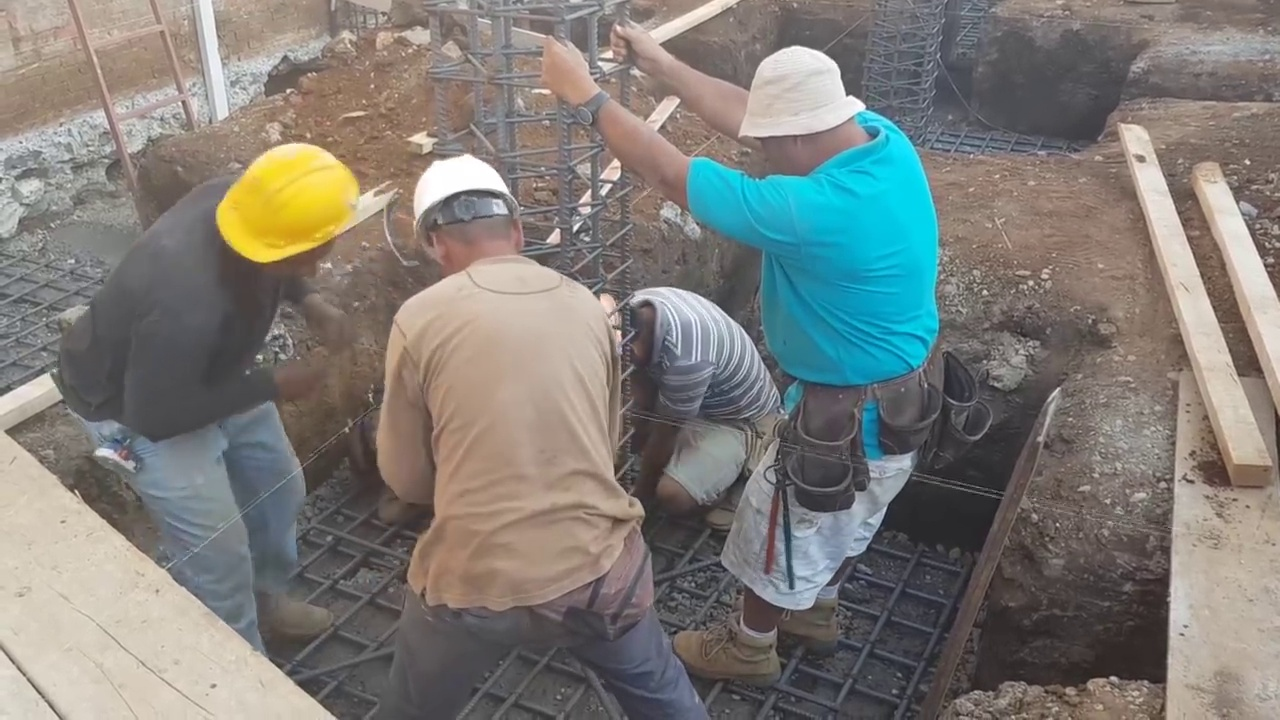helmet: (221, 134, 356, 278), (411, 148, 517, 243)
helmet-off: (733, 45, 872, 177)
helmet-on: (207, 132, 357, 308), (400, 137, 535, 287)
person: (575, 25, 932, 679), (47, 101, 359, 702), (353, 154, 666, 707), (600, 280, 779, 561)
